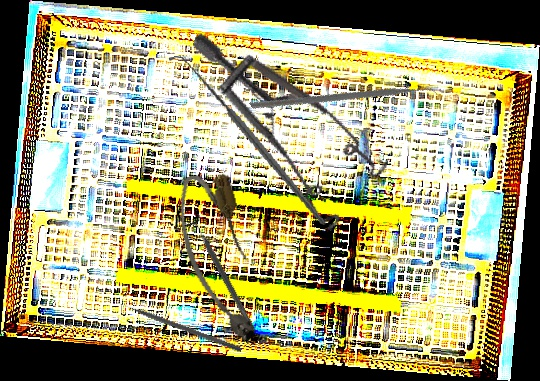Cannula: (170, 167, 267, 349)
Chopper: (249, 9, 443, 196)
Fixation Ring: (181, 212, 262, 334)
Hook Surgical: (168, 35, 328, 247)
Pusher: (115, 298, 243, 353)
Speculum: (152, 31, 409, 242)
